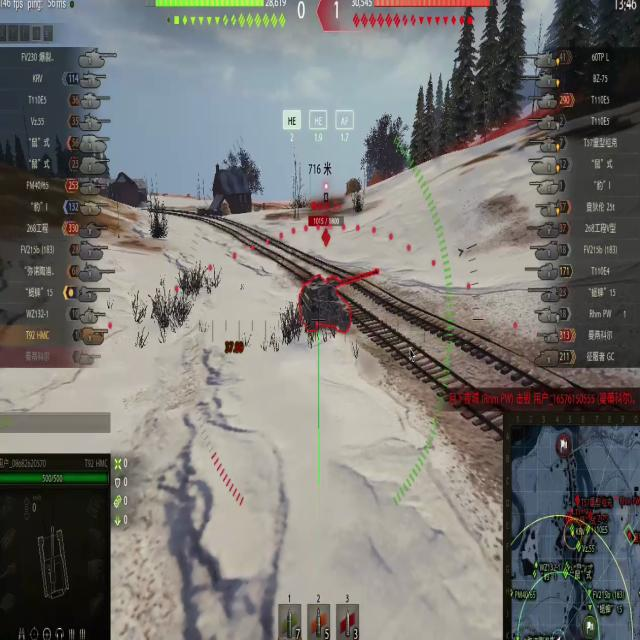tank: (310, 208, 350, 346)
